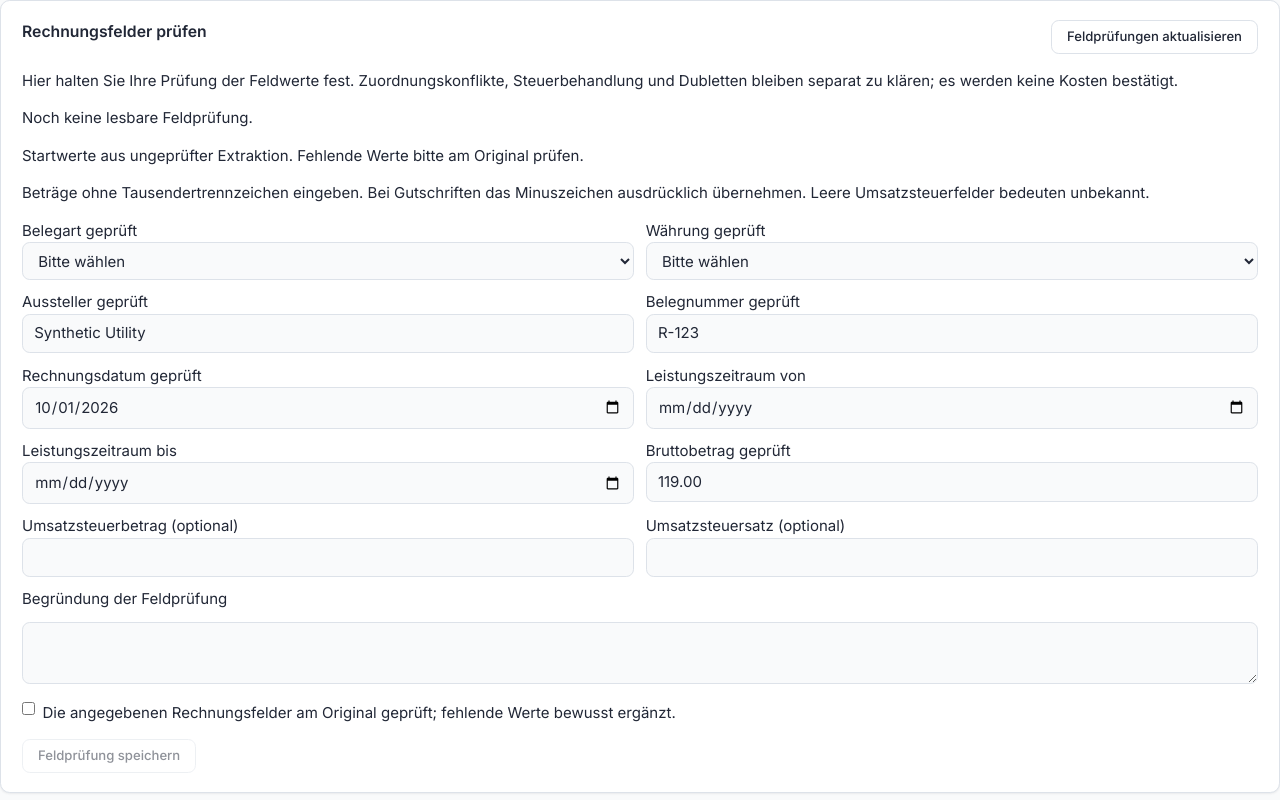
Scenario: keeps type, currency and missing period explicit and resets acknowledgement after field edits
Expected: the field labelled "Aussteller geprüft" holds "Synthetic Utility", [22,314,634,353]
Expected: the dropdown labelled "Währung geprüft" shows "Bitte wählen", [646,242,1258,280]
Select "Rechnung" in the dropdown labelled "Belegart geprüft" at (328, 261), box [22,242,634,280]
Select "EUR" in the dropdown labelled "Währung geprüft" at (952, 261), box [646,242,1258,280]
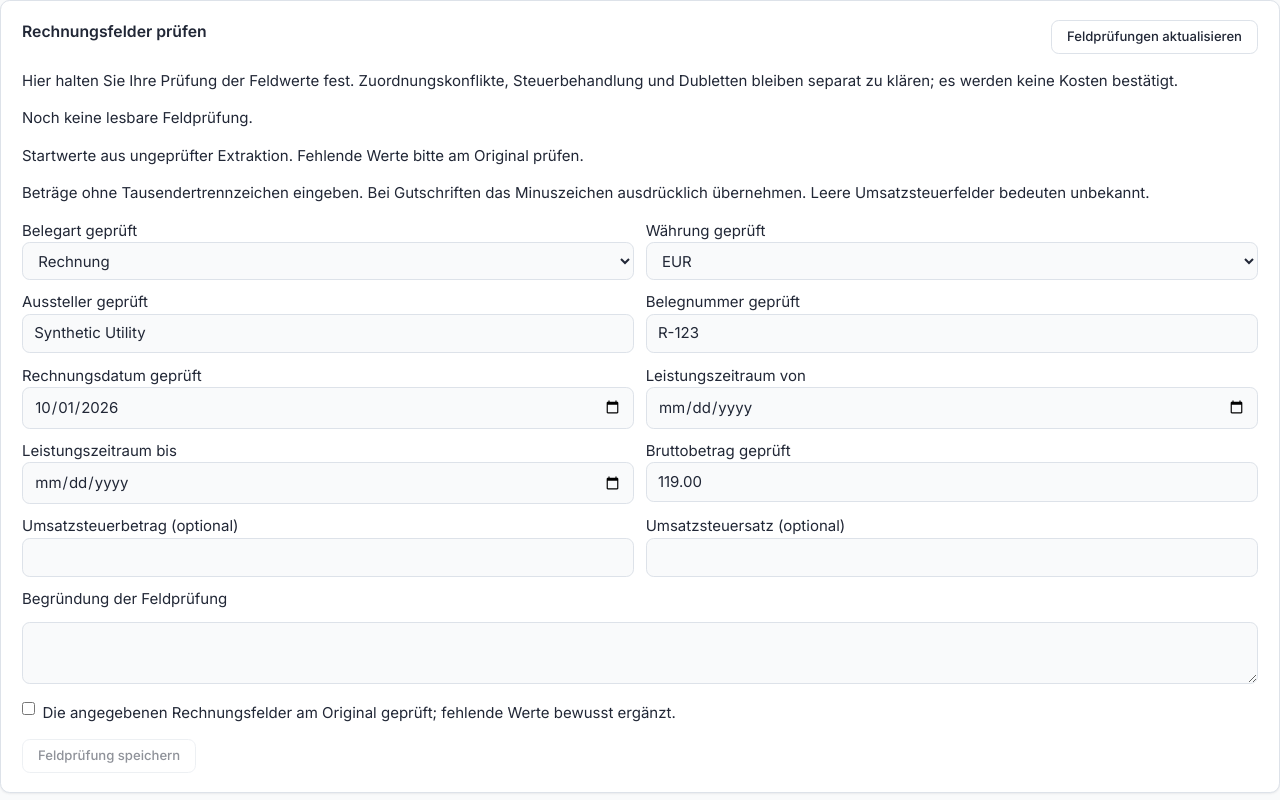
Type "2026-09-01" into the date field labelled "Leistungszeitraum von".
click(952, 408); type("2026-09-01")  # box [646,387,1258,429]
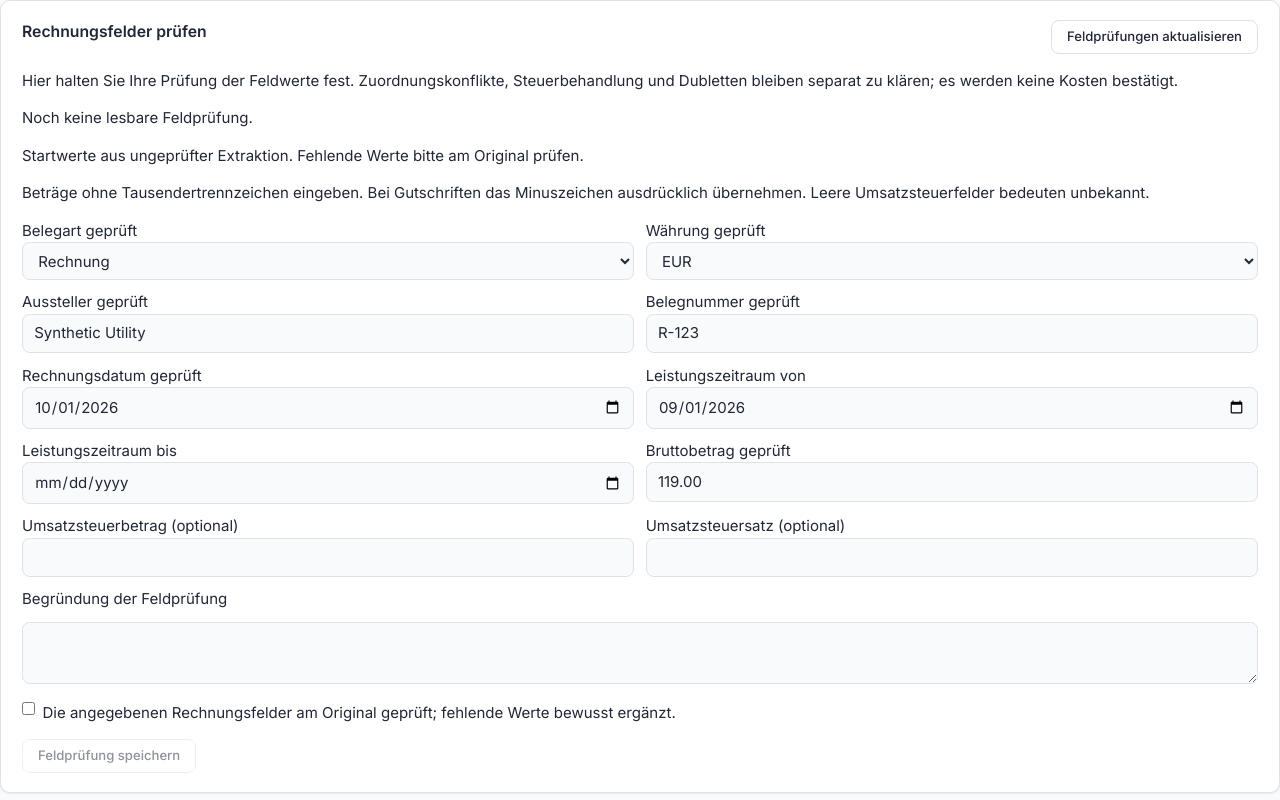
Type "2026-09-30" into the date field labelled "Leistungszeitraum bis".
click(328, 483); type("2026-09-30")  # box [22,462,634,504]
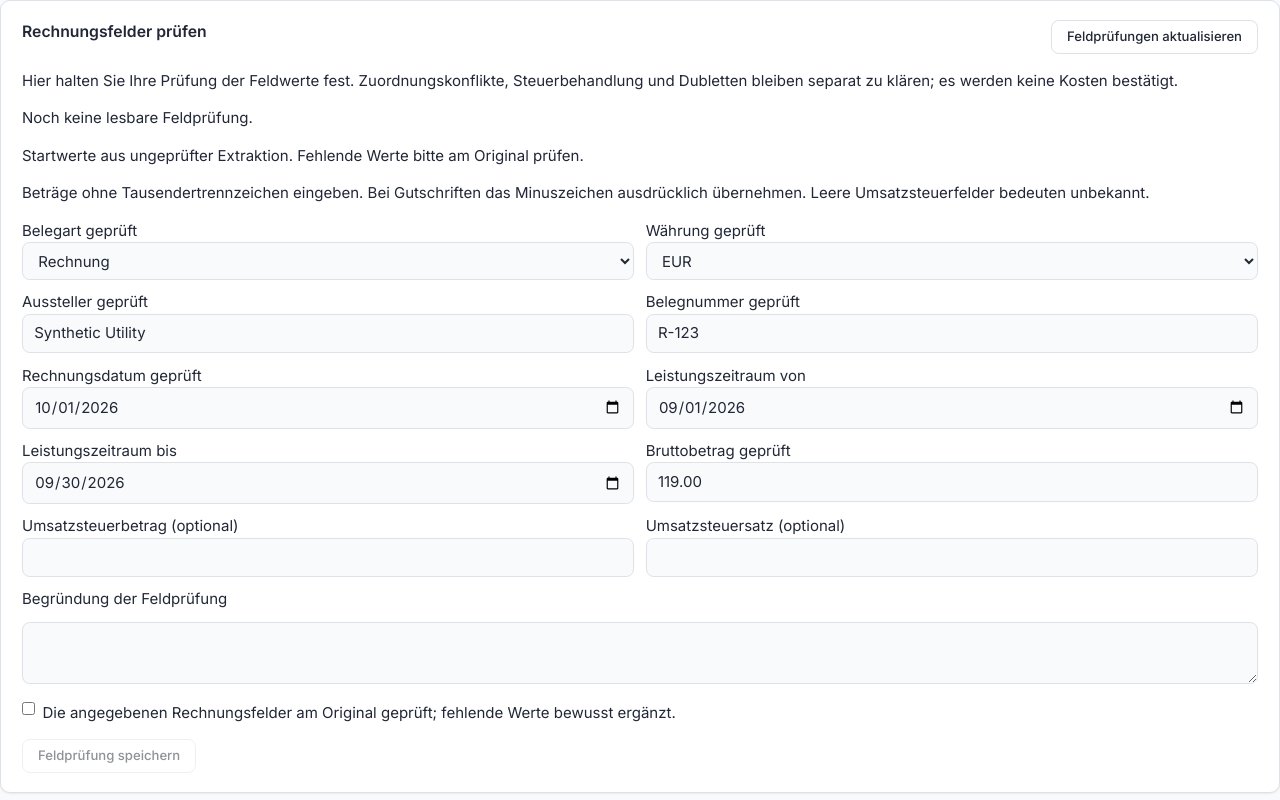
Type "Verified against original" into the text box labelled "Begründung der Feldprüfung".
click(640, 653); type("Verified against original")  # box [22,622,1258,684]
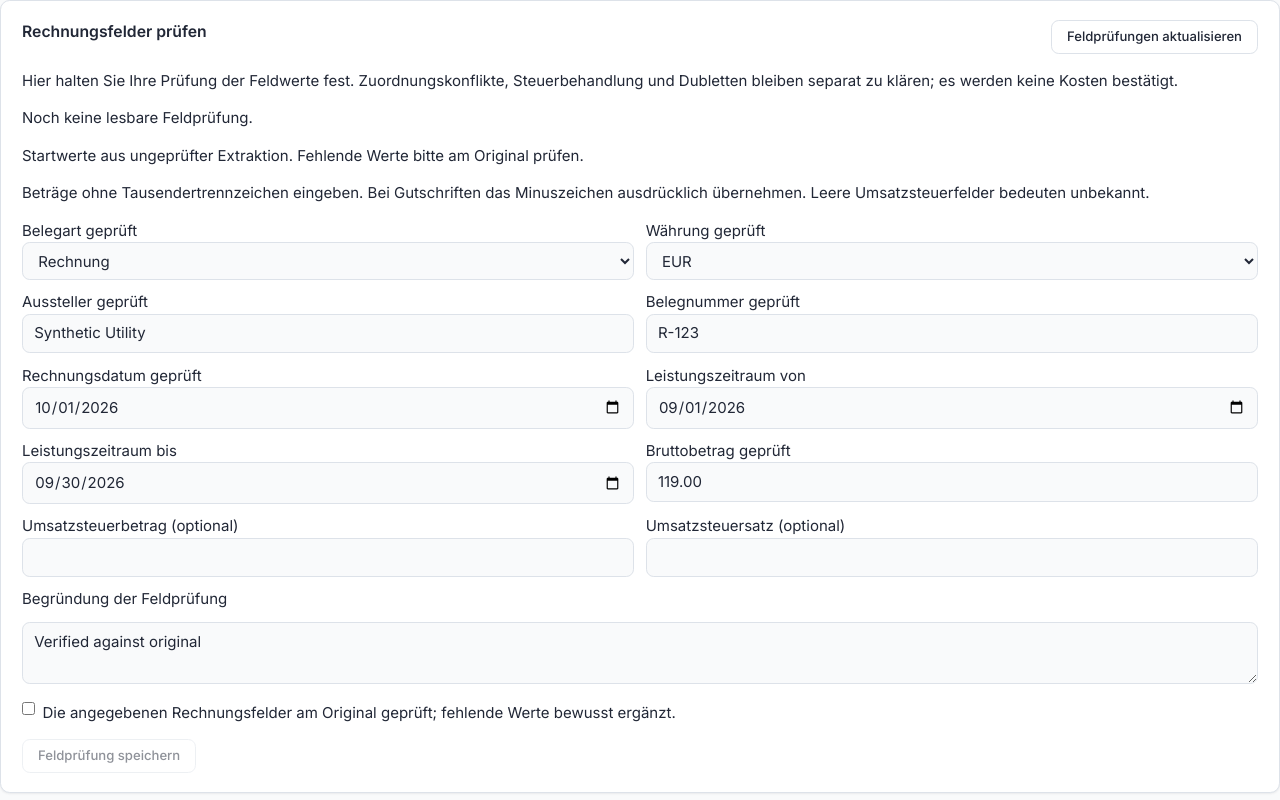
Click the checkbox.
click(28, 708)  # box [22,702,35,715]
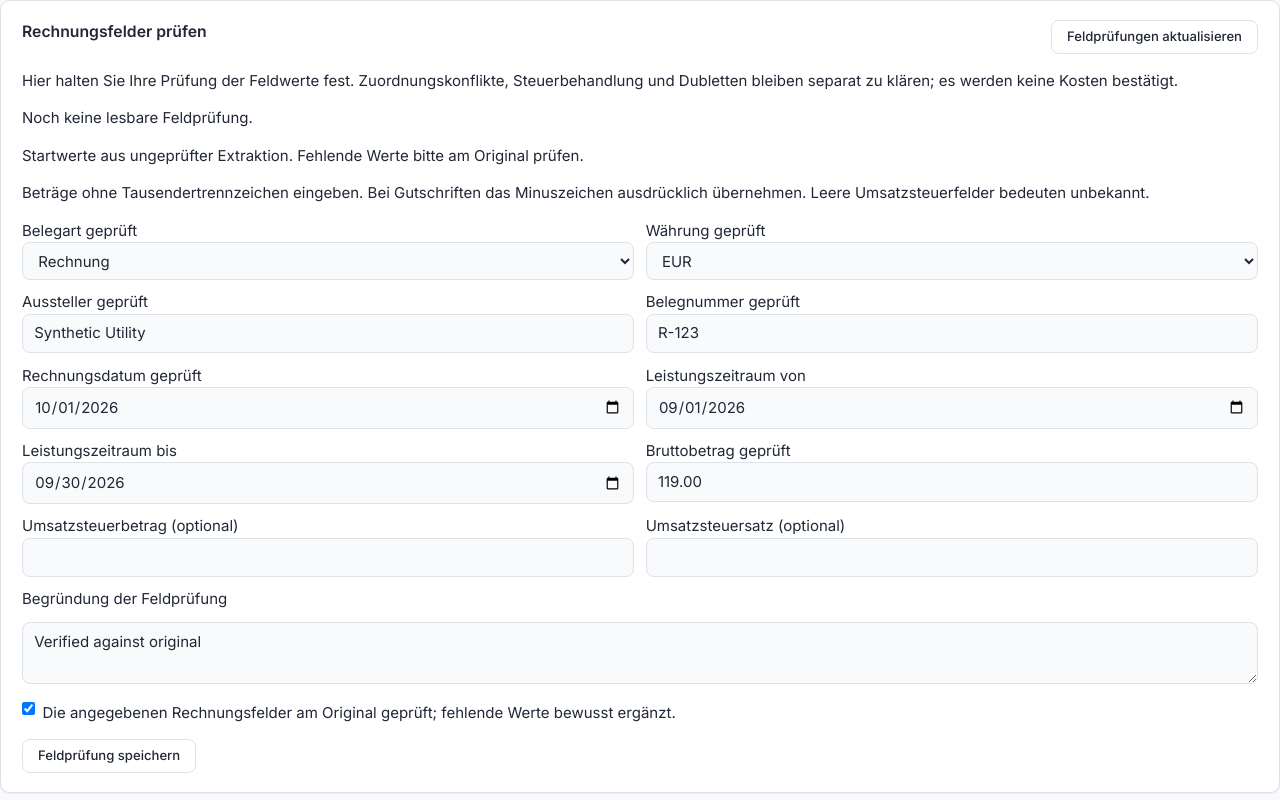
Expected: the button "Feldprüfung speichern" is enabled, [22,739,196,773]
Replace the text in the field labelled "Bruttobetrag geprüft" with "120,00" at (952, 482), box [646,462,1258,502]
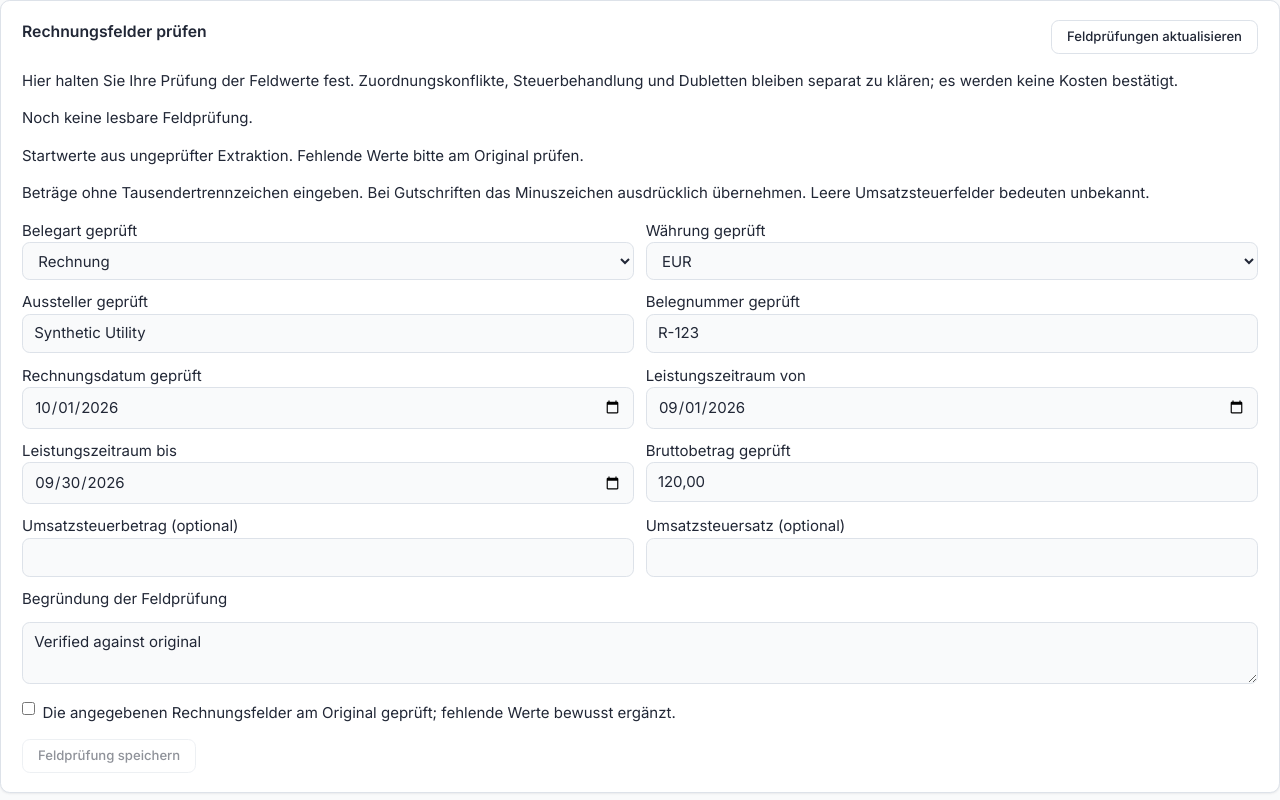
Expected: the checkbox is not checked, [22,702,35,715]
Expected: the button "Feldprüfung speichern" is disabled, [22,739,196,773]
